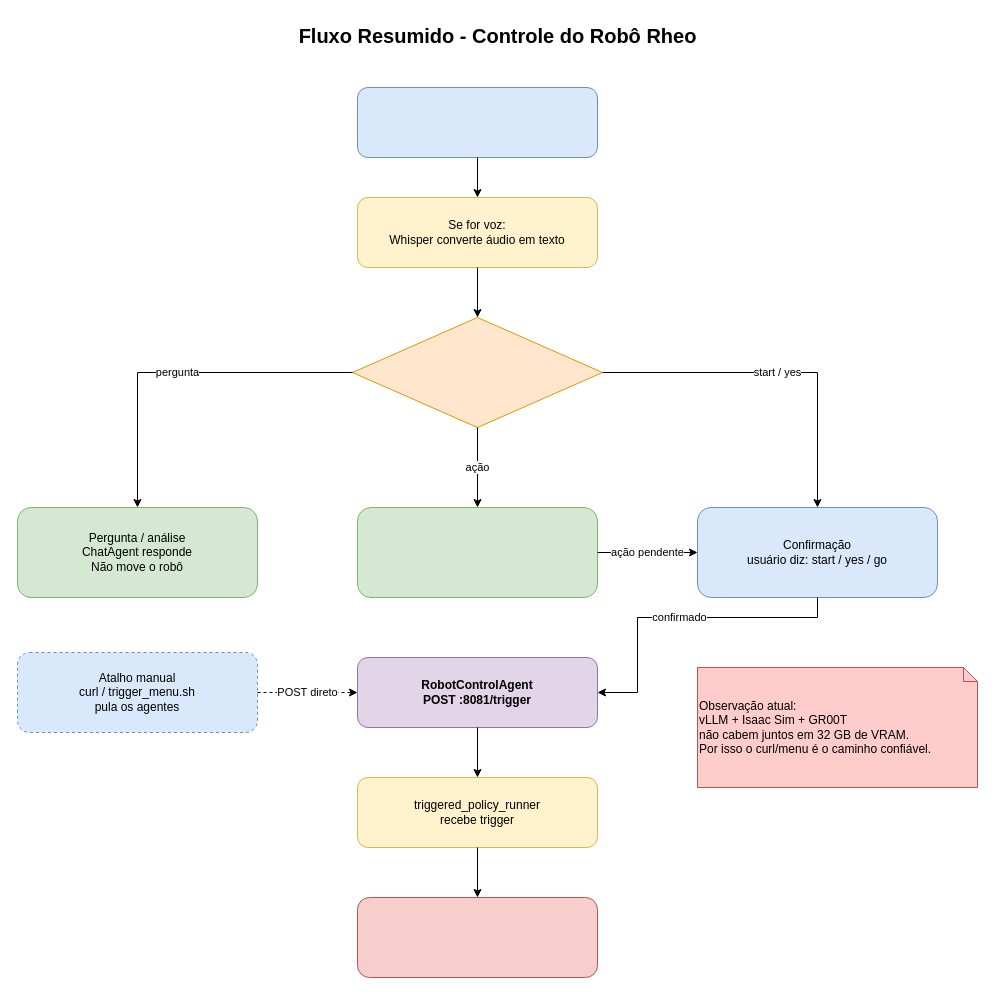
Image size: 995x995. Some labels were removed from this diagram. The shapes that lost their labels are listed below. From the top down, each one's box as (x1, y1, x2, y2) in pixels, then its label:
(356, 86, 598, 158): Entrada do usuário Voz ou texto
(352, 316, 602, 428): Operating Room Selector decide qual agente usar
(356, 506, 598, 598): Comando de ação UserCommandAgent prepara ação pendente
(356, 896, 598, 978): GR00T Policy robô executa no Isaac Sim
